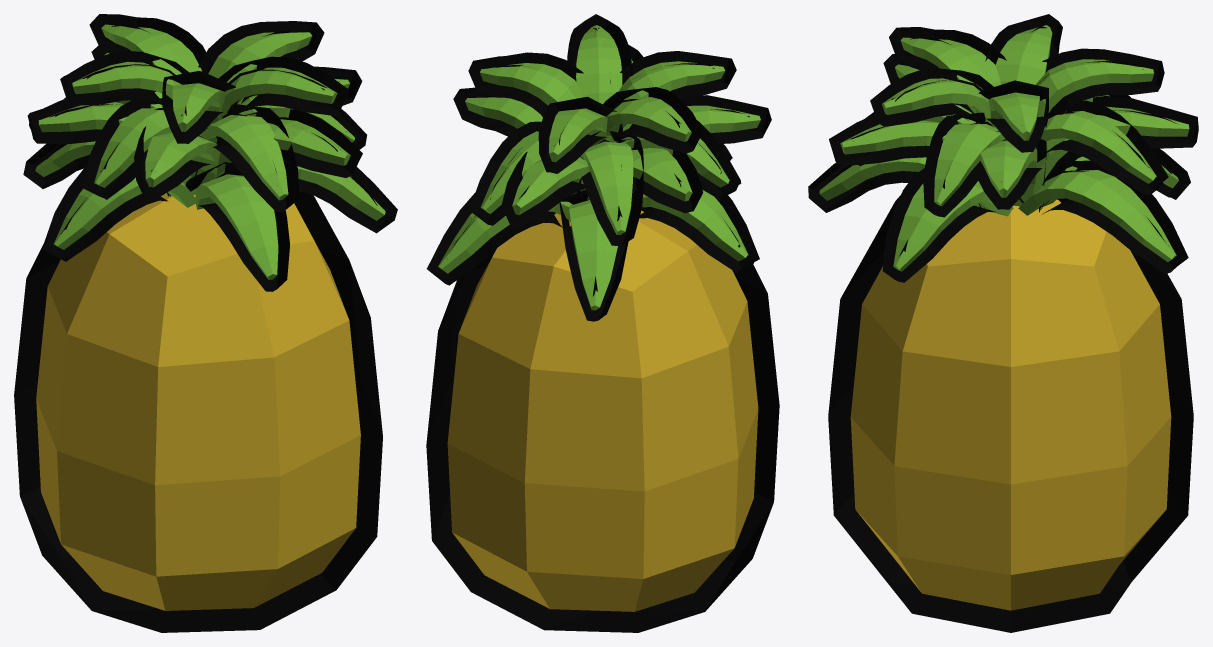
File: pineapple.fbx
3 views of the same model, side by side, from view 1: azimuth 30°, elevation 25°; view 2: azimuth 150°, elevation 25°; view 3: azimuth 270°, elevation 25° (orthographic). The views are drawn at different scales.
Visible parts, largest first — view 1: Pineapple, Pineapple.001; view 2: Pineapple, Pineapple.001; view 3: Pineapple, Pineapple.001.
Part boxes in pixels (<box>): Pineapple: <box>14,191,382,632</box>; Pineapple.001: <box>23,14,397,291</box>; Pineapple: <box>426,210,779,632</box>; Pineapple.001: <box>427,14,771,321</box>; Pineapple: <box>828,195,1193,632</box>; Pineapple.001: <box>808,14,1198,282</box>.
Bounding box in the file's own units: 81.18 × 135 × 86.74.
